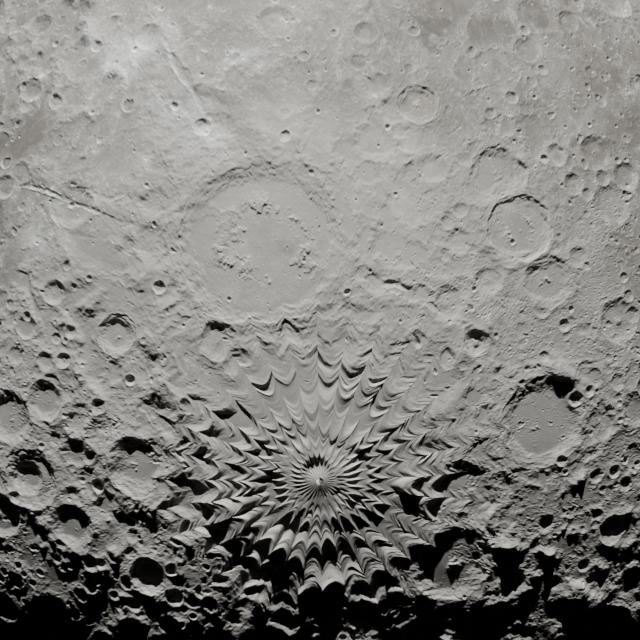crater: (498, 370, 592, 462), (421, 530, 491, 608), (8, 446, 46, 514), (50, 501, 97, 549), (124, 552, 171, 598), (92, 312, 138, 355), (26, 376, 60, 423), (104, 616, 156, 638), (596, 512, 626, 548), (532, 514, 556, 535)
rock: (447, 548, 469, 575), (71, 525, 84, 533), (527, 425, 541, 432), (113, 335, 126, 341)
